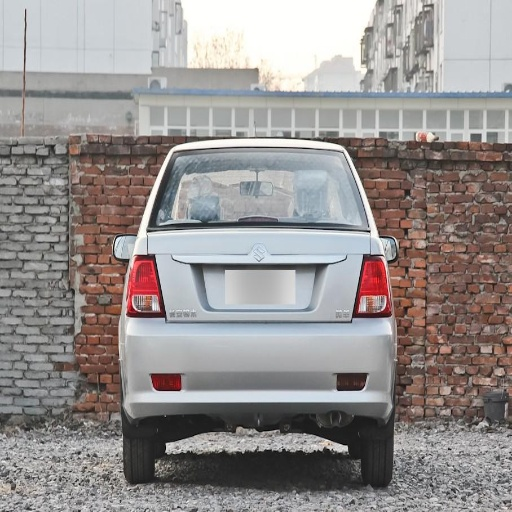back_bumper: (122, 316, 392, 417)
